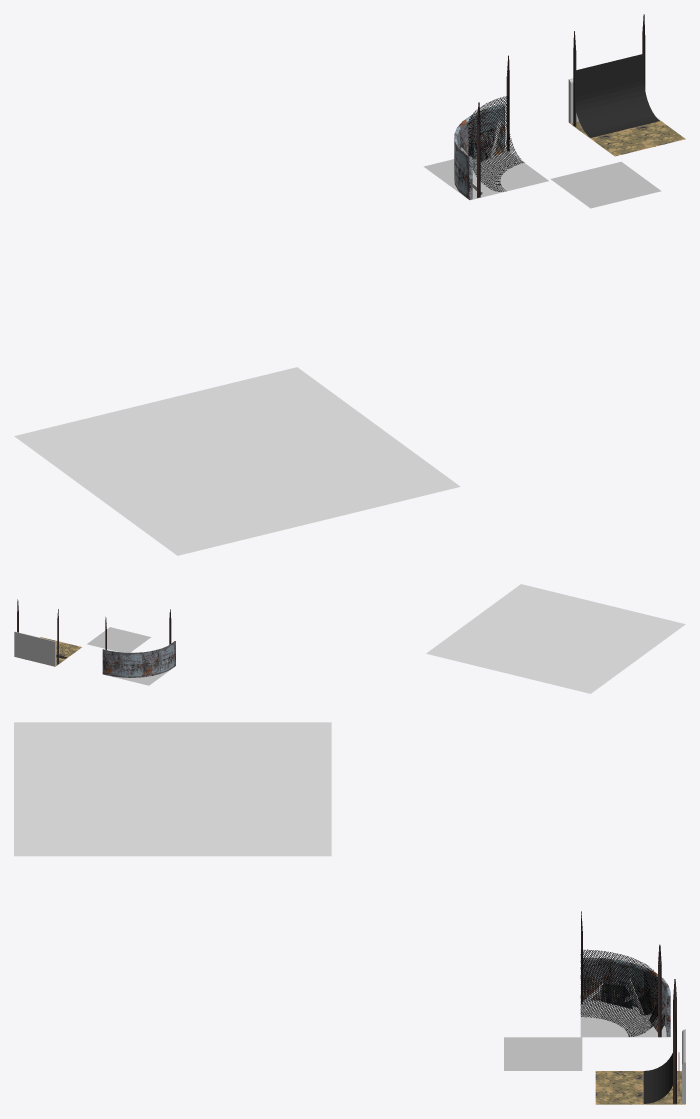
The model's file is corner.fbx.
The picture shows the model from 3 angles, top to bottom: view 1: azimuth 30°, elevation 25°; view 2: azimuth 150°, elevation 25°; view 3: azimuth 270°, elevation 25°; orthographic projection. The views are drawn at different scales.
Visible parts, largest first — view 1: Plane, hegn, corner1.001, Plane.003, ground, wall, jord; view 2: Plane, wall, væg, Plane.003, jord, ground; view 3: Plane, corner1.001, wall, Plane.003, ground, jord, hegn.
Part boxes in pixels (bbox=[...]): Plane: bbox=[14, 367, 460, 555]; hegn: bbox=[575, 53, 659, 137]; corner1.001: bbox=[468, 95, 524, 191]; Plane.003: bbox=[550, 161, 661, 208]; ground: bbox=[423, 148, 548, 200]; wall: bbox=[454, 104, 504, 199]; jord: bbox=[569, 118, 685, 156]; Plane: bbox=[426, 584, 685, 693]; wall: bbox=[102, 641, 175, 677]; væg: bbox=[14, 631, 56, 666]; Plane.003: bbox=[87, 627, 151, 652]; jord: bbox=[40, 637, 81, 666]; ground: bbox=[104, 667, 173, 685]; Plane: bbox=[14, 722, 331, 856]; corner1.001: bbox=[580, 949, 659, 1036]; wall: bbox=[583, 957, 670, 1036]; Plane.003: bbox=[504, 1037, 582, 1070]; ground: bbox=[580, 1000, 669, 1037]; jord: bbox=[595, 1071, 685, 1104]; hegn: bbox=[643, 1053, 674, 1103].
Bounding box in the file's own units: 11326 × 1293 × 8402.
